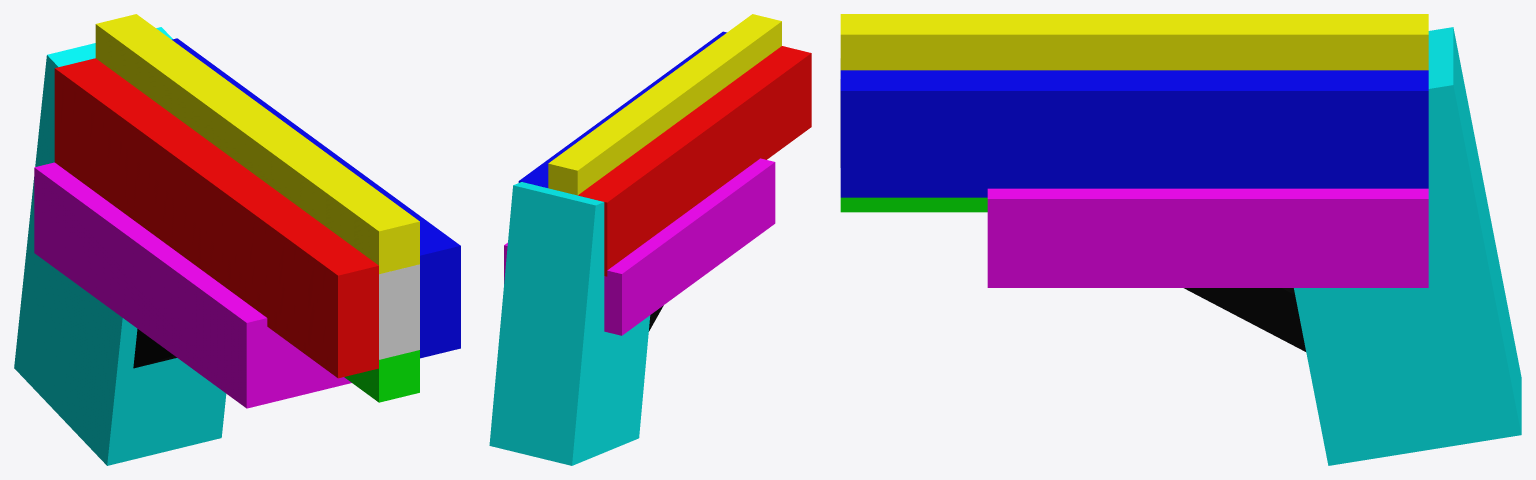
The model's file is ToyGun.fbx.
3 renders of one model, left to right at view 1: azimuth 30°, elevation 25°; view 2: azimuth 150°, elevation 25°; view 3: azimuth 270°, elevation 25°, orthographic. The views are drawn at different scales.
Visible parts, largest first — view 1: Cube.008, Cube.001, Cube.003, Cube.005, Cube.004, Cube.007, Cube.006, Cube.002; view 2: Cube.003, Cube.008, Cube.001, Cube.005, Cube.004; view 3: Cube.004, Cube.003, Cube.001, Cube.005, Cube.002, Cube.006.
Part boxes in pixels (x1,y1,x2,y2): Cube.008: [54, 58, 378, 378]; Cube.001: [34, 162, 351, 408]; Cube.003: [14, 27, 226, 465]; Cube.005: [95, 14, 419, 274]; Cube.004: [172, 38, 460, 358]; Cube.007: [379, 264, 419, 359]; Cube.006: [344, 350, 419, 402]; Cube.002: [133, 329, 176, 368]; Cube.003: [489, 182, 650, 465]; Cube.008: [578, 46, 811, 276]; Cube.001: [504, 158, 775, 335]; Cube.005: [548, 14, 781, 195]; Cube.004: [518, 31, 726, 187]; Cube.004: [840, 70, 1428, 197]; Cube.003: [1294, 27, 1521, 465]; Cube.001: [987, 188, 1428, 287]; Cube.005: [840, 14, 1428, 70]; Cube.002: [1184, 288, 1305, 351]; Cube.006: [840, 197, 987, 212].
Bounding box in the file's own units: 52.8 × 123 × 183.
